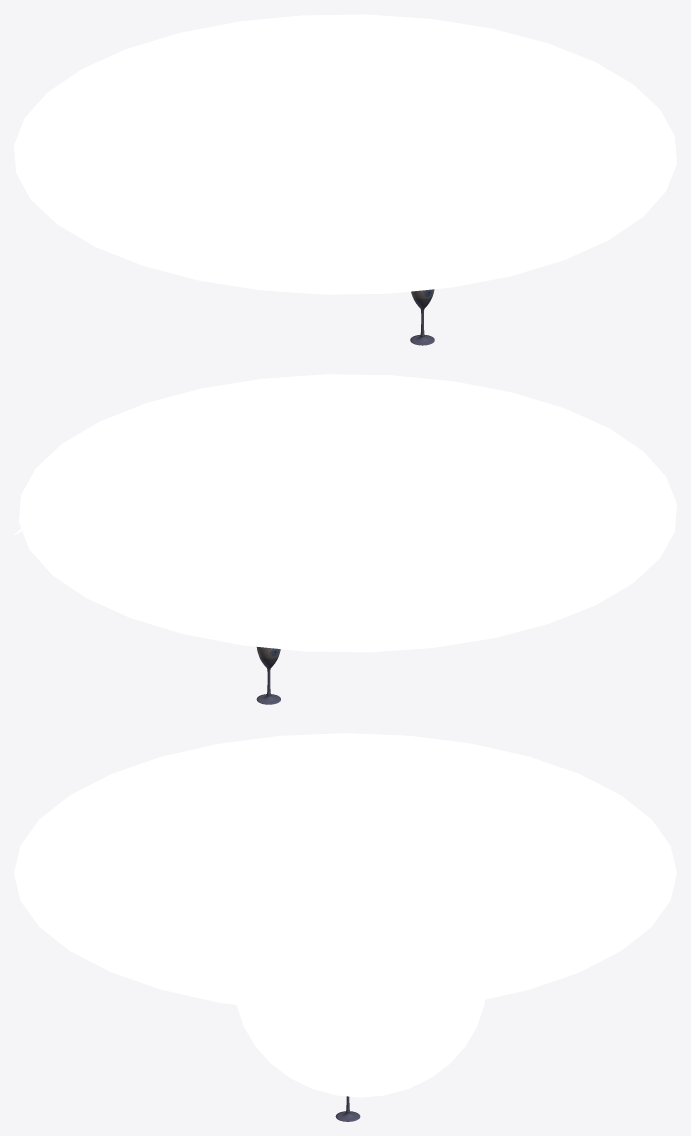
Rendered from ARDelftFlute10.glb.
The picture shows the model from 3 angles, top to bottom: view 1: azimuth 30°, elevation 25°; view 2: azimuth 150°, elevation 25°; view 3: azimuth 270°, elevation 25°; orthographic projection.
Visible parts, largest first — view 1: Lamp.001, Lamp, cup2.002; view 2: Lamp.001, Lamp, cup2.002; view 3: Lamp.001, Lamp.
Part boxes in pixels (left/top/right/bottom): Lamp.001: left=14, top=14, right=676, bottom=294; Lamp: left=458, top=23, right=622, bottom=138; cup2.002: left=410, top=289, right=434, bottom=345; Lamp.001: left=19, top=374, right=676, bottom=652; Lamp: left=14, top=394, right=220, bottom=534; cup2.002: left=256, top=647, right=280, bottom=704; Lamp.001: left=14, top=733, right=676, bottom=1013; Lamp: left=234, top=867, right=486, bottom=1097.
Bounding box in the file's own units: 78.56 × 35.36 × 75.92.
3 materials, 1 textured.
